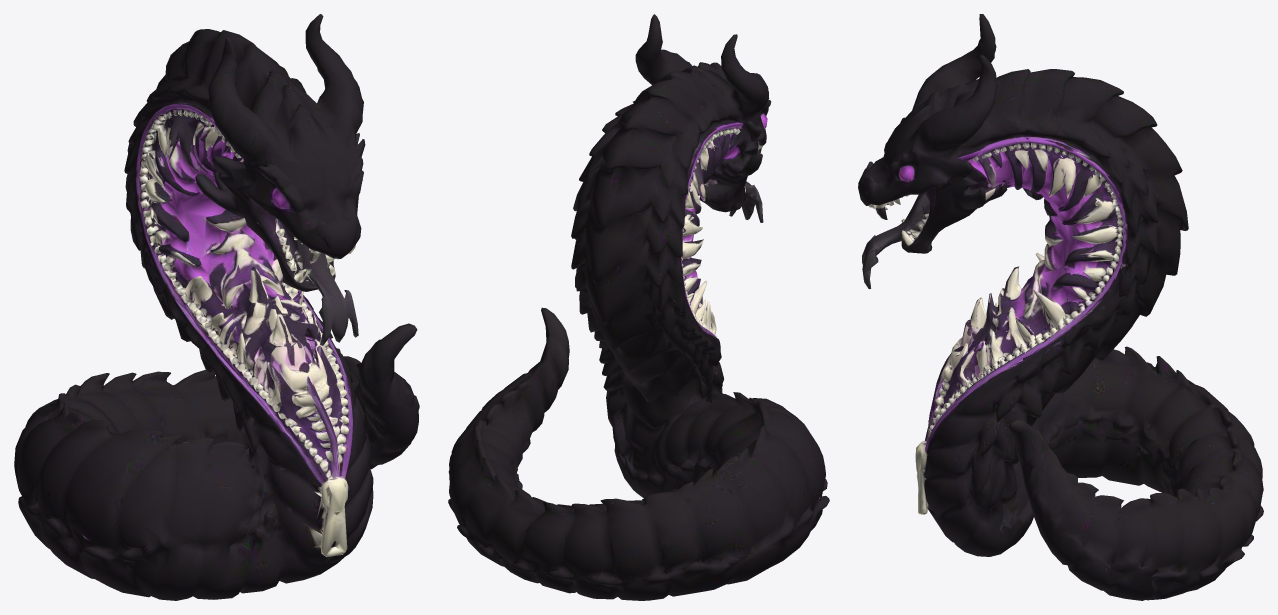
The picture shows the model from 3 angles, left to right: view 1: azimuth 30°, elevation 25°; view 2: azimuth 150°, elevation 25°; view 3: azimuth 270°, elevation 25°; orthographic projection. The views are drawn at different scales.
Visible parts, largest first — view 1: Mesh_0; view 2: Mesh_0; view 3: Mesh_0.
Part boxes in pixels (bbox=[...]): Mesh_0: bbox=[14, 14, 419, 600]; Mesh_0: bbox=[448, 14, 829, 600]; Mesh_0: bbox=[858, 14, 1263, 600].
Bounding box in the file's own units: 1.35 × 1.9 × 1.38.
Materials: 1 (1 with a texture image).
